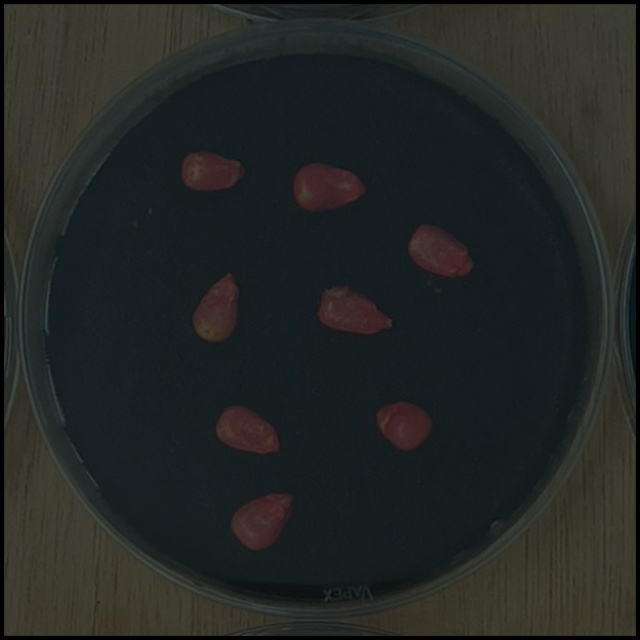Zea mays: (309, 278, 401, 342), (222, 483, 300, 557), (399, 216, 481, 285), (286, 155, 372, 219), (183, 263, 245, 349), (209, 398, 287, 463), (173, 143, 252, 199), (369, 395, 439, 458)
